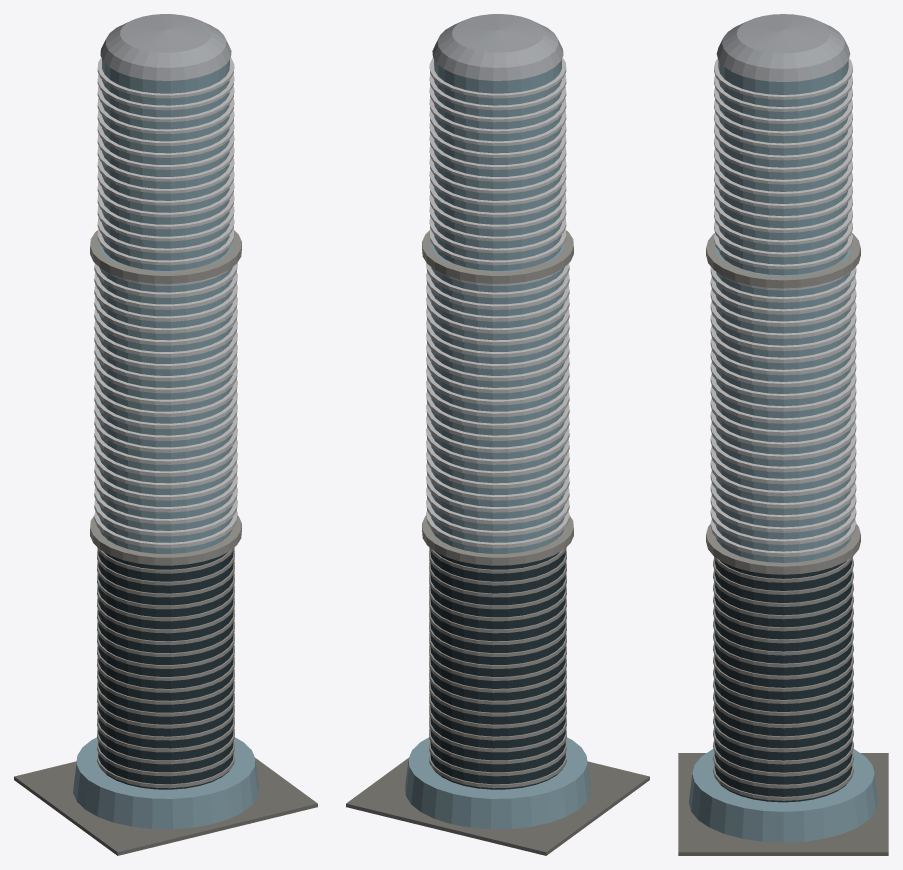
Rendered from one_park_drive.glb.
The picture shows the model from 3 angles, left to right: view 1: azimuth 30°, elevation 25°; view 2: azimuth 150°, elevation 25°; view 3: azimuth 270°, elevation 25°; orthographic projection.
Parts seen in each view (by area): view 1: one_park_drive; view 2: one_park_drive; view 3: one_park_drive.
Boxes of the visible parts, x1,y1,x2,y2 form: one_park_drive: (14,14,317,855); one_park_drive: (346,14,649,855); one_park_drive: (678,14,888,855).
Bounding box in the file's own units: 58 × 212 × 52.
